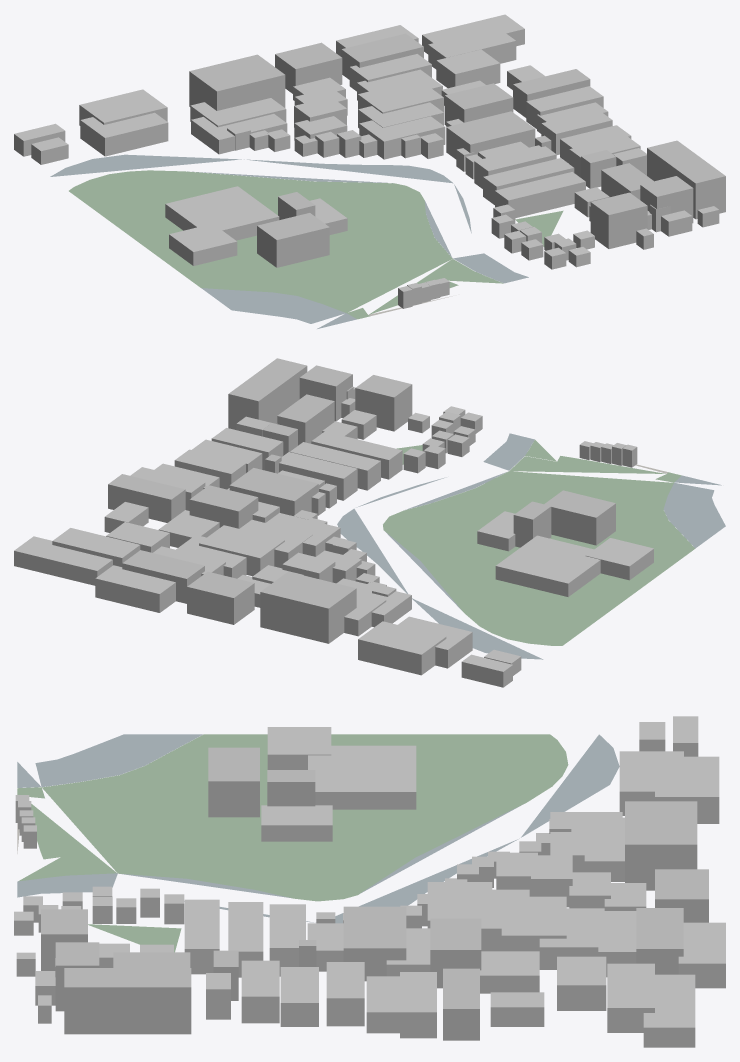
File: 106_100_mid.glb
3 renders of one model, top to bottom at view 1: azimuth 30°, elevation 25°; view 2: azimuth 150°, elevation 25°; view 3: azimuth 270°, elevation 25°, orthographic. The views are drawn at different scales.
Bounding box in the file's own units: 532 × 38.15 × 510.
